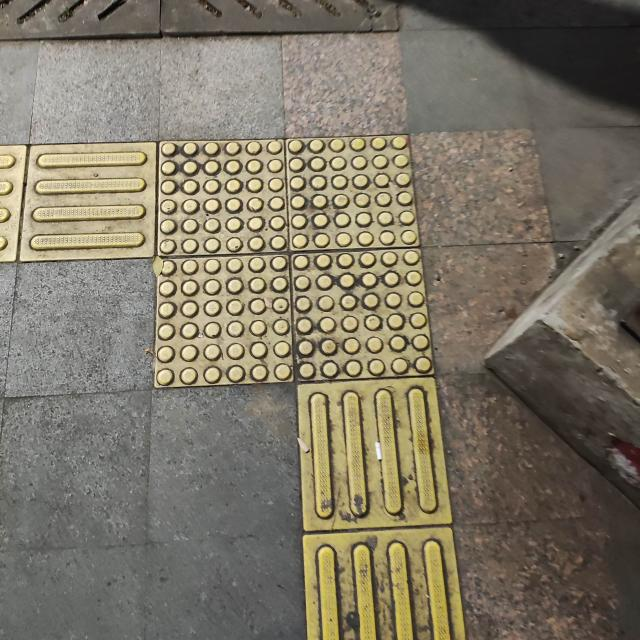kiri: (0, 104, 452, 487)
